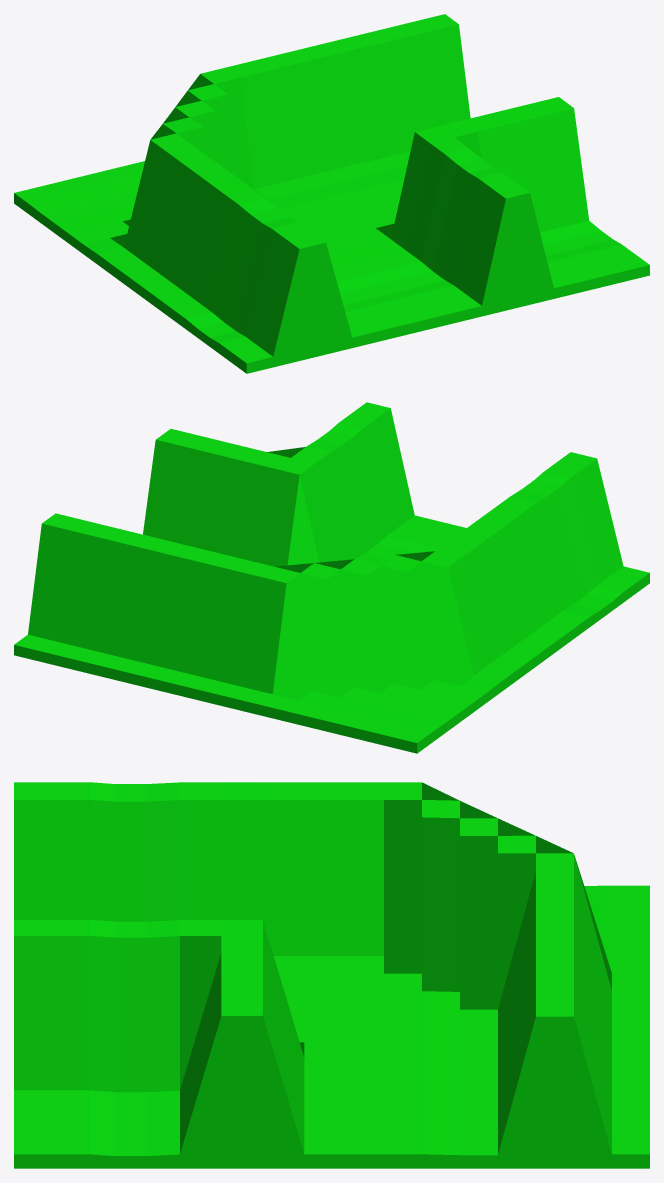
The model's file is curvedpath.fbx.
3 renders of one model, top to bottom at view 1: azimuth 30°, elevation 25°; view 2: azimuth 150°, elevation 25°; view 3: azimuth 270°, elevation 25°, orthographic. The views are drawn at different scales.
Parts seen in each view (by area): view 1: Cube; view 2: Cube; view 3: Cube.
Boxes of the visible parts, x1=… form: Cube: x1=14, y1=14, x2=649, y2=373; Cube: x1=14, y1=402, x2=649, y2=753; Cube: x1=14, y1=782, x2=649, y2=1168.
Size of the model in its own units: 8000 by 2123 by 8000.
